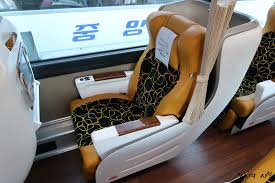seat: (126, 14, 181, 124)
